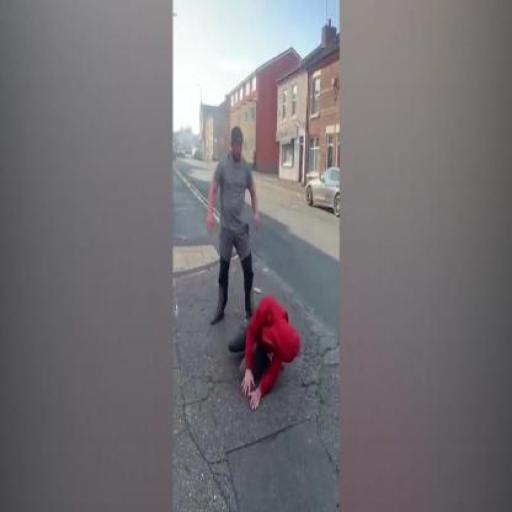Fighting: (199, 127, 309, 413)
